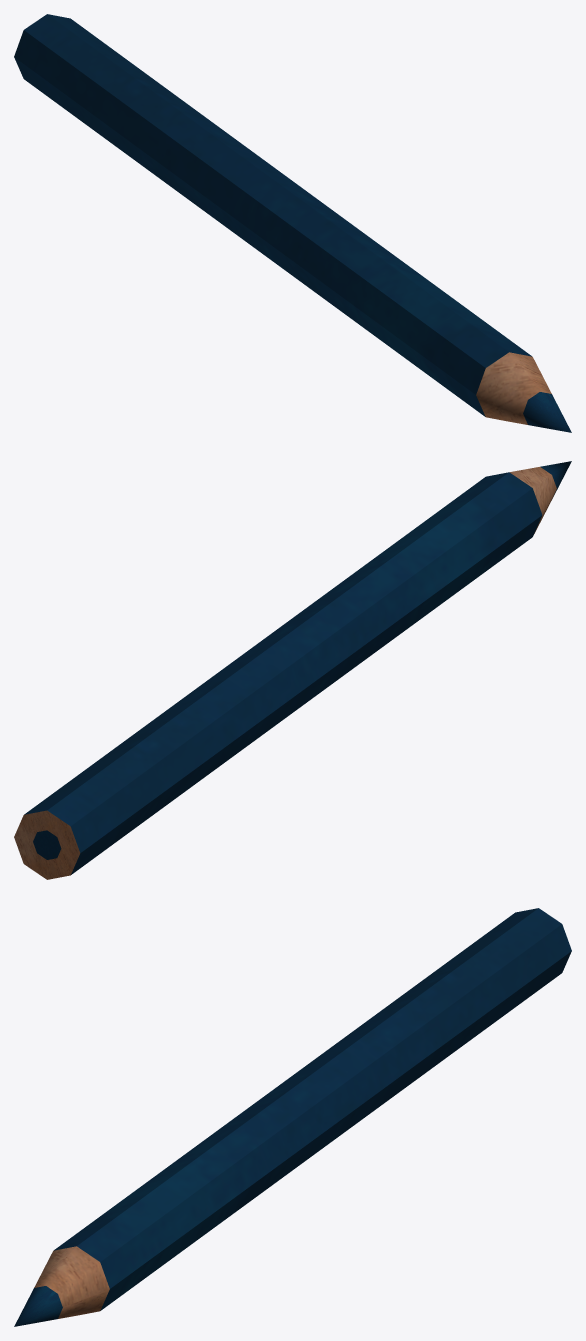
Rendered from Pencil_blue.fbx.
3 views of the same model, one above another, from view 1: azimuth 30°, elevation 25°; view 2: azimuth 150°, elevation 25°; view 3: azimuth 330°, elevation 25° (orthographic).
Parts seen in each view (by area): view 1: Pencil; view 2: Pencil; view 3: Pencil.
Boxes of the visible parts, left/top/right/bottom form: Pencil: left=14, top=14, right=571, bottom=432; Pencil: left=14, top=461, right=571, bottom=879; Pencil: left=14, top=908, right=571, bottom=1326.
Size of the model in its own units: 14.61 by 14.61 by 200.
